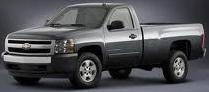front_view: (5, 35, 80, 77)
headlight: (51, 38, 79, 59)
side_glass: (105, 3, 139, 32)
